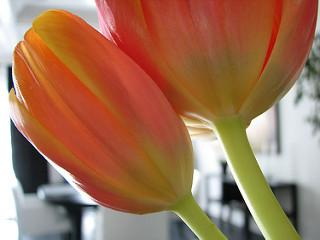tulip: (8, 9, 194, 215), (94, 0, 320, 134)
